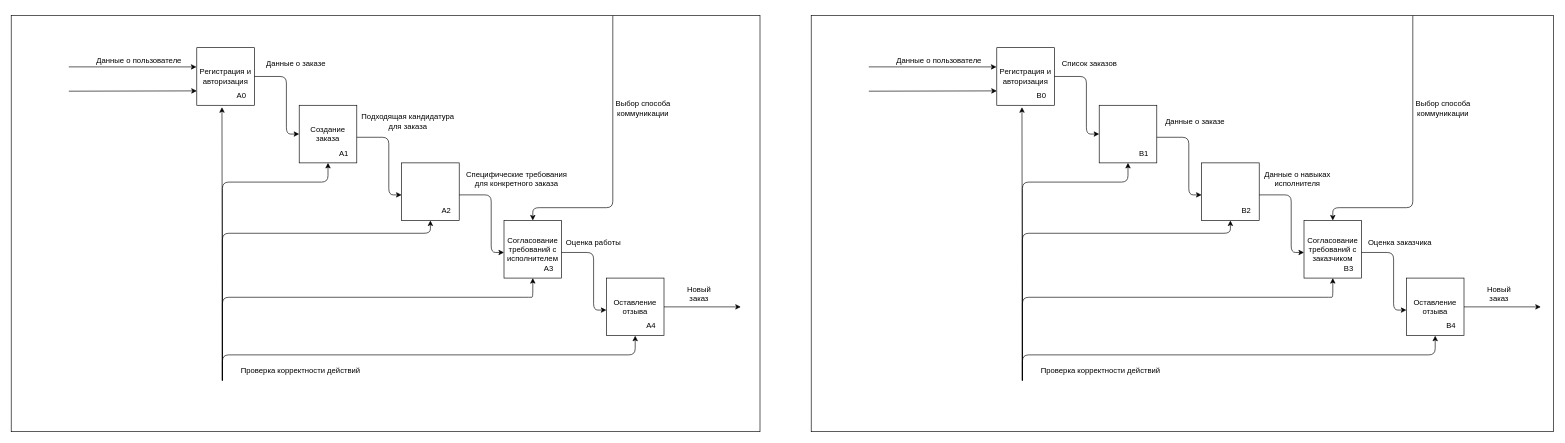
The diagram is 1565 pixels wide and 443 high, and some of its shapes have lost their labels. Here are the shapes that lost their labels. From the top down, the box of each, then its label:
(1099, 105, 1157, 163): Поиск заказа
(401, 162, 459, 220): Выбор фрилансера
(1201, 162, 1259, 220): Отклик на задание
